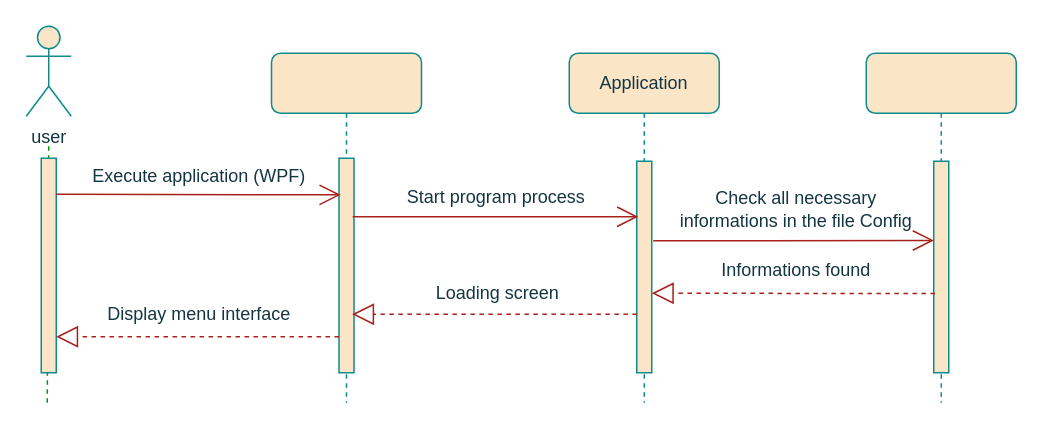
This 1043x431 diagram has some shape labels left out. Here are the shapes that lost their labels. From the top down, the box of each, then its label:
(270, 52, 422, 403): Application IHM
(865, 52, 1016, 403): Storage
